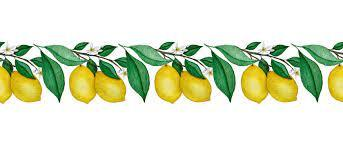lemon: (154, 65, 182, 104), (241, 65, 268, 104), (69, 65, 96, 104), (179, 70, 211, 102), (94, 71, 126, 103), (10, 71, 42, 102), (267, 71, 298, 102), (328, 64, 343, 102), (0, 65, 12, 104)
